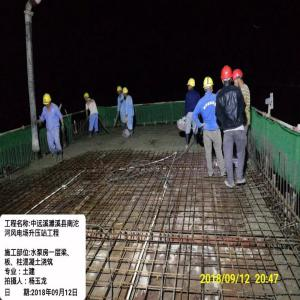red: (222, 65, 233, 86), (233, 69, 244, 88)
yellow: (204, 77, 214, 92), (43, 94, 53, 109), (188, 78, 197, 92), (123, 87, 130, 97), (84, 93, 91, 102), (117, 86, 123, 96)
